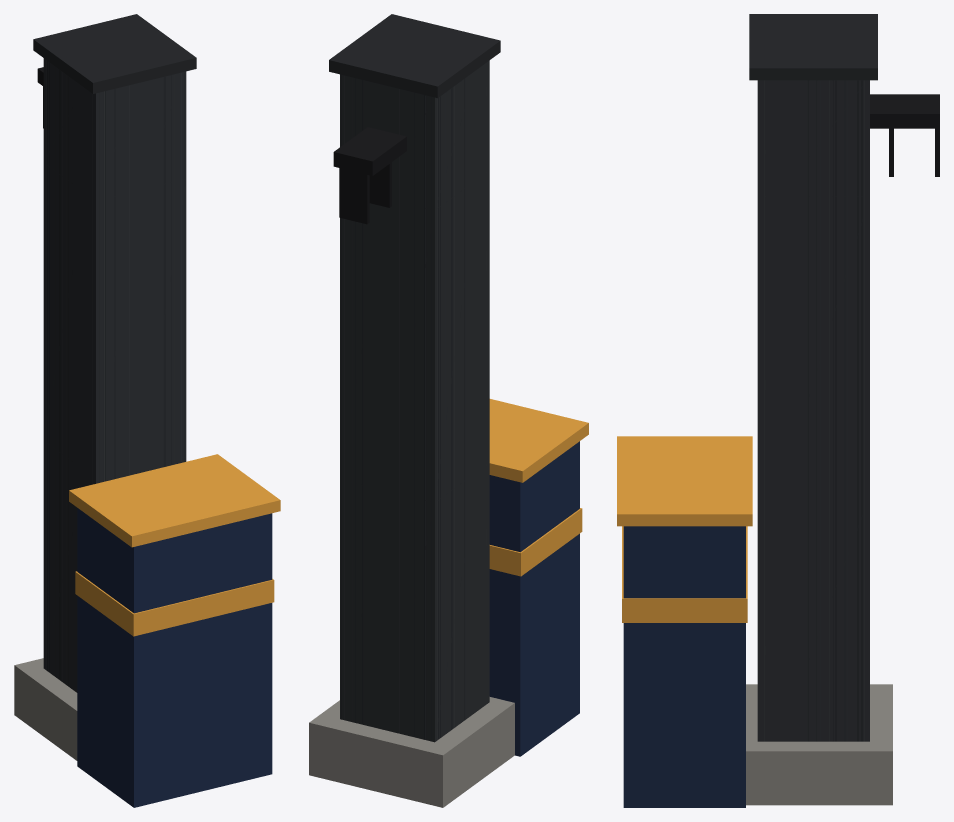
File: MinidoracatKnoxPass_slidemotor1_G.glb
3 renders of one model, left to right at view 1: azimuth 30°, elevation 25°; view 2: azimuth 150°, elevation 25°; view 3: azimuth 270°, elevation 25°, orthographic. The views are drawn at different scales.
Visible parts, largest first — view 1: MinidoracatKnoxPass_slidemotor1_G; view 2: MinidoracatKnoxPass_slidemotor1_G; view 3: MinidoracatKnoxPass_slidemotor1_G.
Part boxes in pixels (x1,y1,x2,y2): MinidoracatKnoxPass_slidemotor1_G: (14, 14, 280, 807); MinidoracatKnoxPass_slidemotor1_G: (309, 14, 588, 807); MinidoracatKnoxPass_slidemotor1_G: (617, 14, 939, 807).
Bounding box in the file's own units: 0.56 × 2.44 × 0.977.
1 material, 1 textured.
